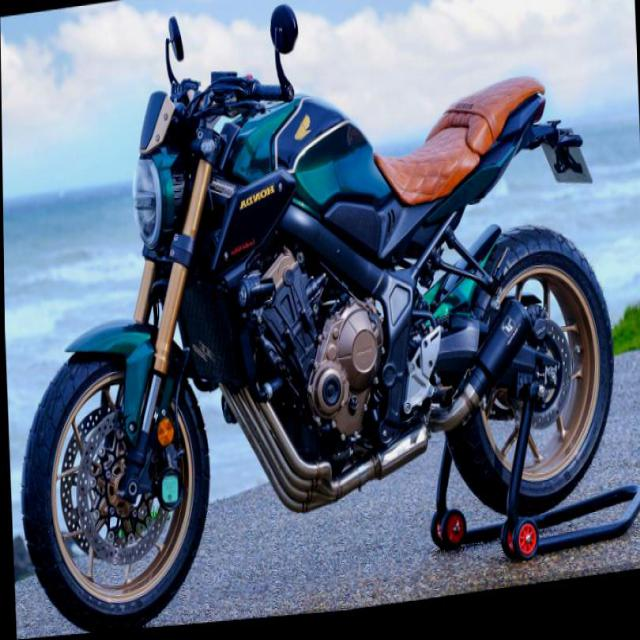CB650R: (4, 23, 623, 638)
